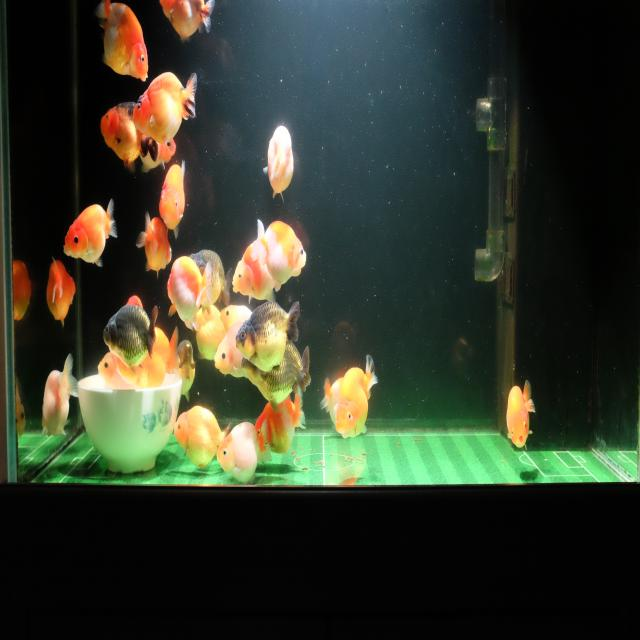Tilapia: (132, 67, 199, 150), (234, 298, 302, 374), (242, 343, 312, 412), (100, 99, 158, 175), (96, 0, 149, 83), (250, 218, 308, 287), (118, 326, 180, 390), (334, 353, 378, 443), (173, 404, 231, 471), (63, 198, 118, 268), (216, 418, 273, 485), (253, 387, 308, 456), (102, 302, 158, 367), (38, 353, 78, 443), (167, 255, 212, 331), (232, 240, 276, 304), (158, 0, 218, 46), (134, 210, 172, 282), (262, 122, 295, 204), (158, 155, 186, 240), (45, 254, 75, 332), (505, 378, 536, 451), (186, 249, 229, 300), (190, 307, 227, 362), (96, 352, 136, 399), (214, 322, 246, 378), (138, 134, 178, 171), (318, 374, 344, 428), (220, 302, 252, 336)
